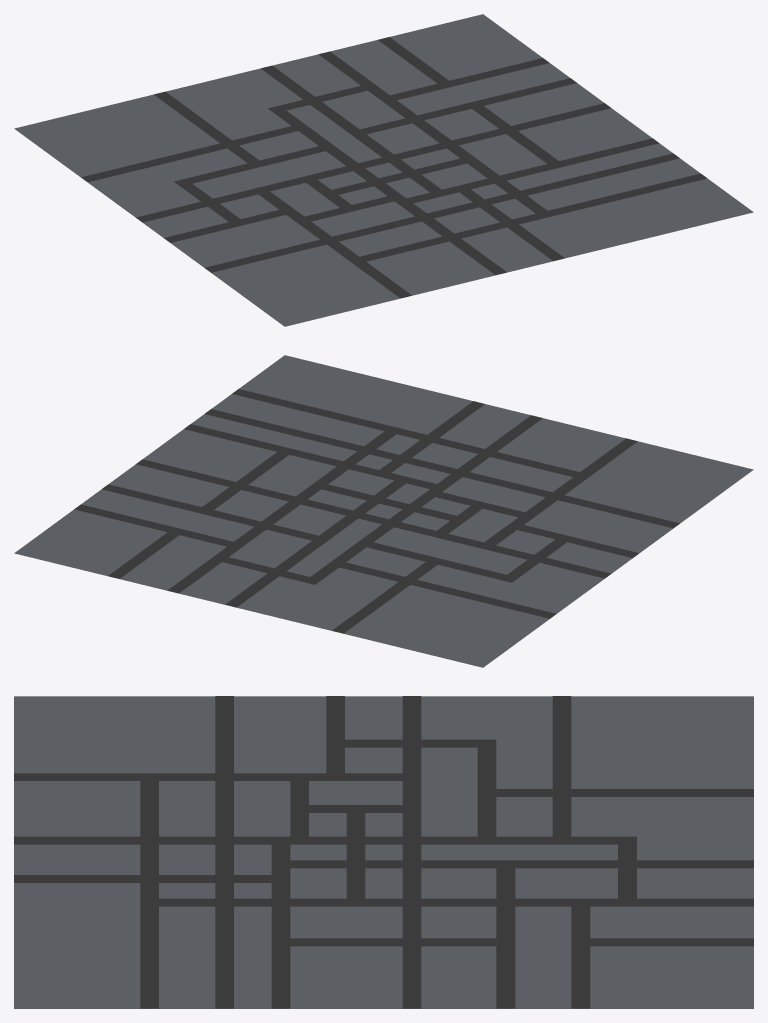
File: SM_Env_Backgrouind_Streets_01.fbx
3 views of the same model, one above another, from view 1: azimuth 30°, elevation 25°; view 2: azimuth 150°, elevation 25°; view 3: azimuth 270°, elevation 25° (orthographic). The views are drawn at different scales.
Visible parts, largest first — view 1: SM_Env_Backgrouind_Streets_01; view 2: SM_Env_Backgrouind_Streets_01; view 3: SM_Env_Backgrouind_Streets_01.
Boxes of the visible parts, bbox=[...] form: SM_Env_Backgrouind_Streets_01: bbox=[14, 14, 753, 326]; SM_Env_Backgrouind_Streets_01: bbox=[14, 355, 753, 667]; SM_Env_Backgrouind_Streets_01: bbox=[14, 696, 753, 1008].
Size of the model in its own units: 87551 by 14.55 by 87551.
